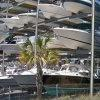Boat: (7, 61, 97, 96)
